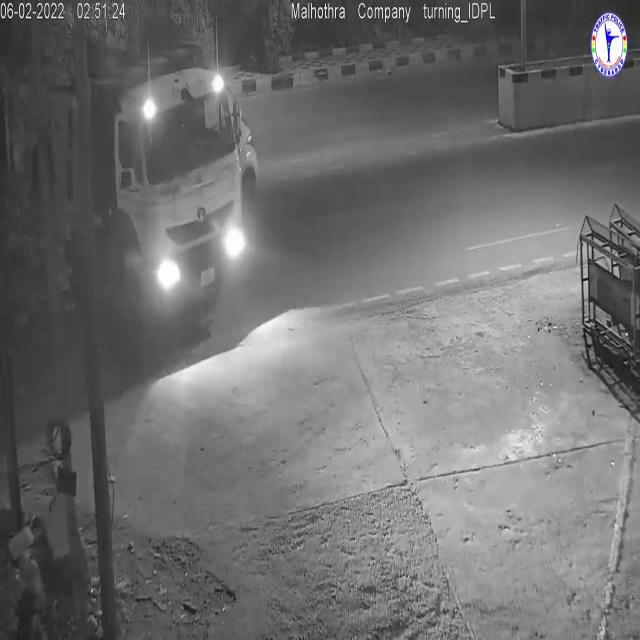accident: (8, 47, 260, 334)
